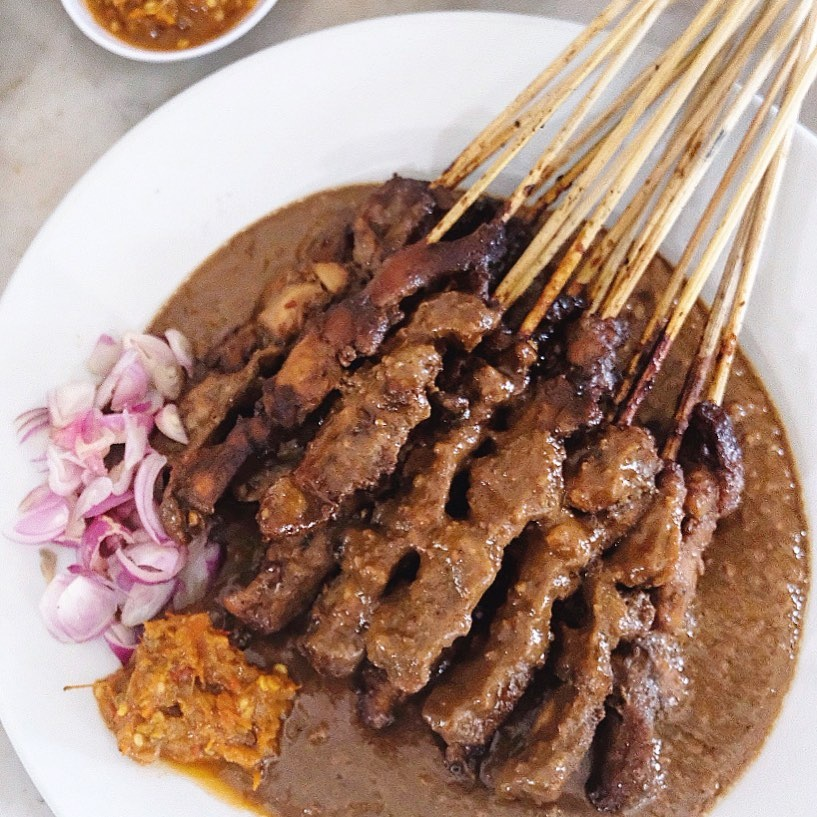sate: (155, 152, 753, 814)
